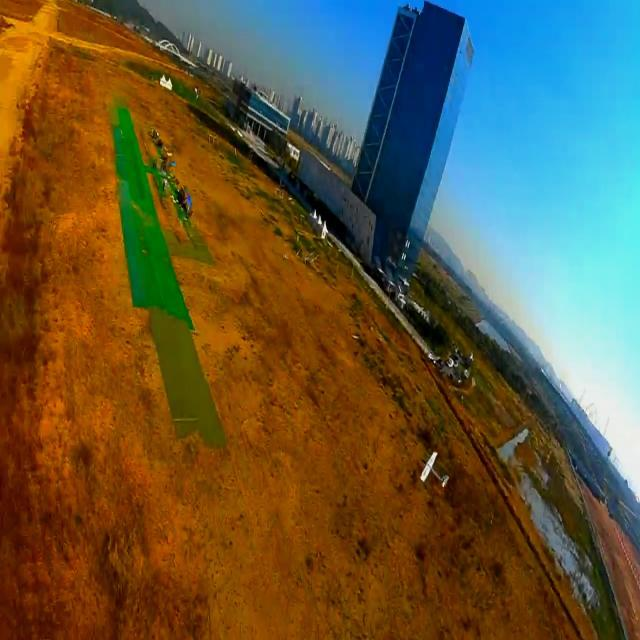iha: (416, 449, 453, 490)
